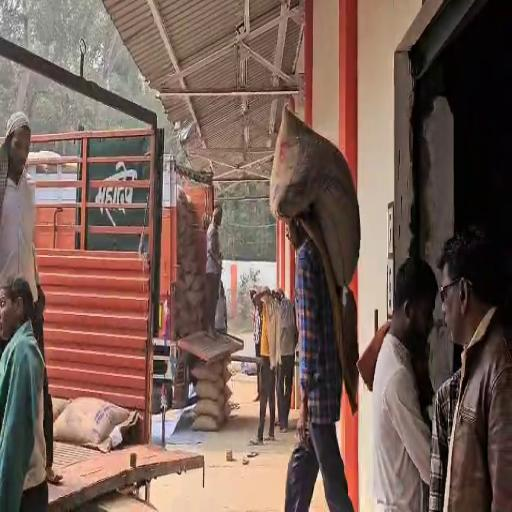bag: (268, 98, 363, 292)
